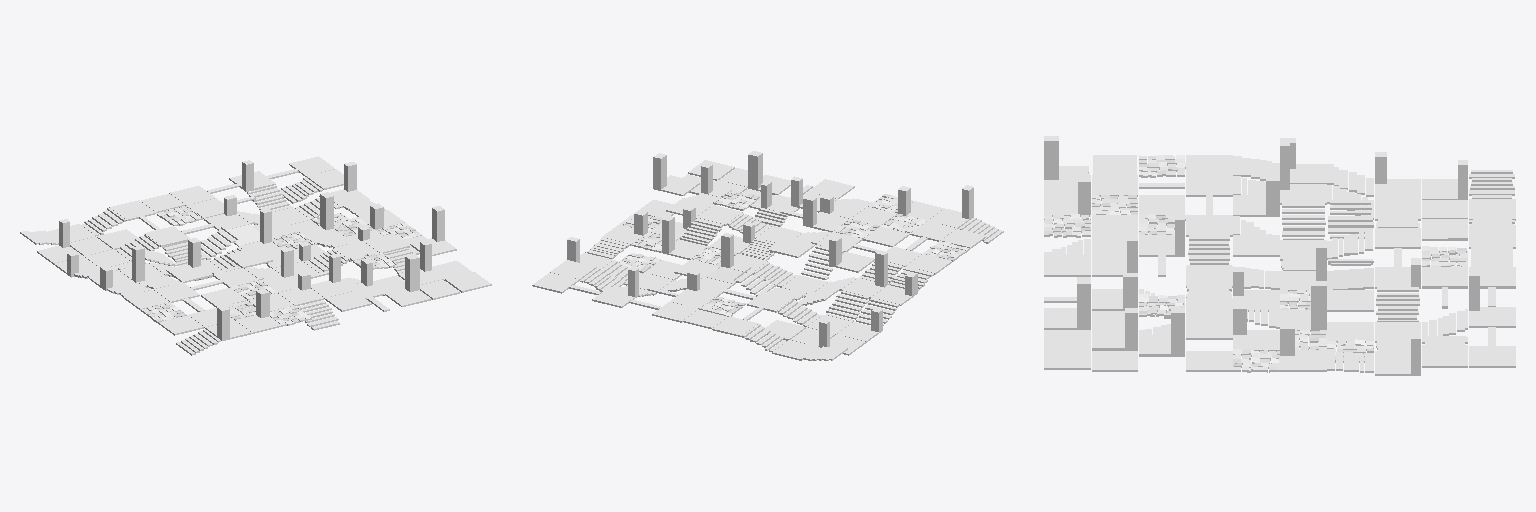
URDF robot description (chair):
<robot name="chair">
  <link name="base_link">
    <visual>
      <origin xyz="0 0 0" rpy="0 0 0" />
      <geometry>
        <mesh filename="package://hpp_environments/meshes/multicontact/random_scene_10x10_V5.stl"/>
      </geometry>
      <material name="white">
        <color rgba="1 1 1 1"/>
      </material>
    </visual>
    <collision>
      <origin xyz="0 0 0" rpy="0 0 0" />
      <geometry>
        <mesh filename="package://hpp_environments/meshes/multicontact/random_scene_10x10_V5.stl"/>
      </geometry>
    </collision>
  </link>
</robot>

--- Render facts (derived) ---
3 views of the same robot in one strip: view 1: azimuth 30°, elevation 25°; view 2: azimuth 150°, elevation 25°; view 3: azimuth 270°, elevation 25° (orthographic).
Model chair with 1 links and 0 joints (none), rooted at base_link, posed every joint at zero.
Links seen in each view (by area): view 1: base_link; view 2: base_link; view 3: base_link.
Boxes of the visible links, x1,y1,x2,y2 form: base_link: (20,156,491,355); base_link: (532,151,1003,360); base_link: (1044,136,1515,375).
Bounding box of the posed robot: 19.98 × 19.98 × 3.36 m (x, y, z).
Meshes: 1 distinct files referenced, 1 mesh visuals loaded (1 binary STL).